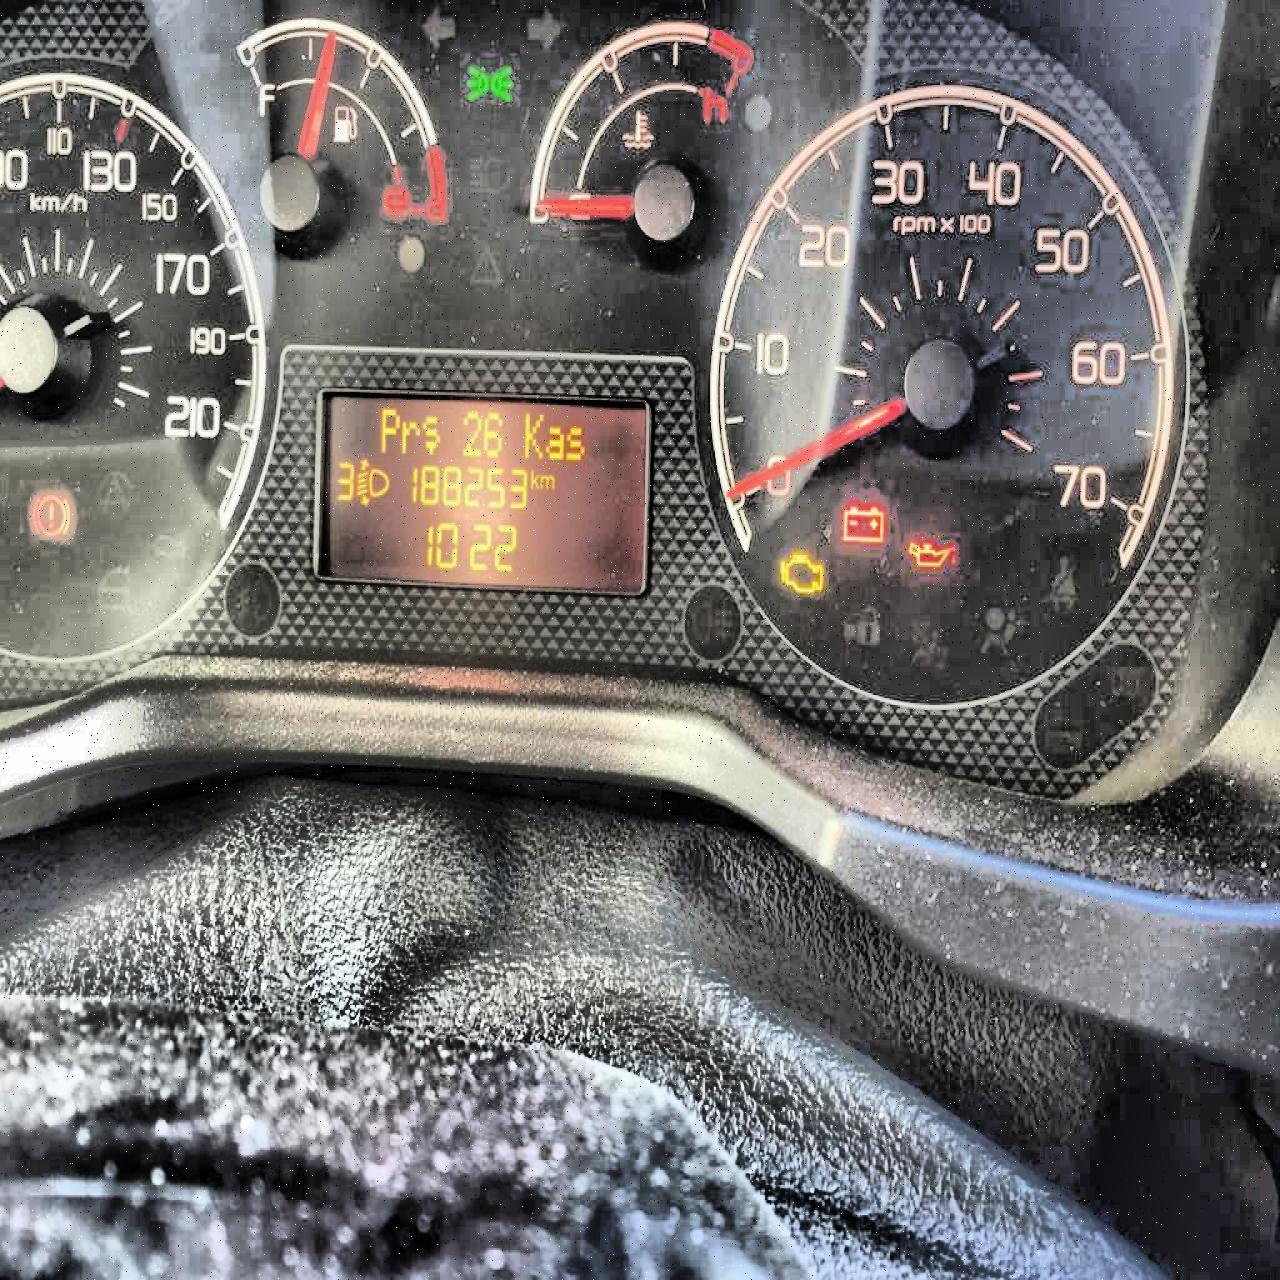0: (434, 519, 457, 568)
1: (425, 522, 434, 566), (409, 464, 417, 503)
2: (492, 522, 517, 572), (468, 522, 490, 570), (461, 410, 481, 457), (463, 465, 483, 506)
3: (508, 467, 526, 509), (335, 459, 354, 501)
5: (485, 467, 504, 509)
6: (481, 410, 501, 457)
8: (440, 463, 461, 505), (418, 463, 440, 505)
X: (379, 406, 400, 455), (523, 411, 544, 458), (420, 414, 440, 454), (399, 418, 418, 454), (564, 425, 584, 459), (544, 425, 564, 459), (538, 474, 553, 490), (529, 467, 539, 489)
odometer: (309, 384, 652, 598)
